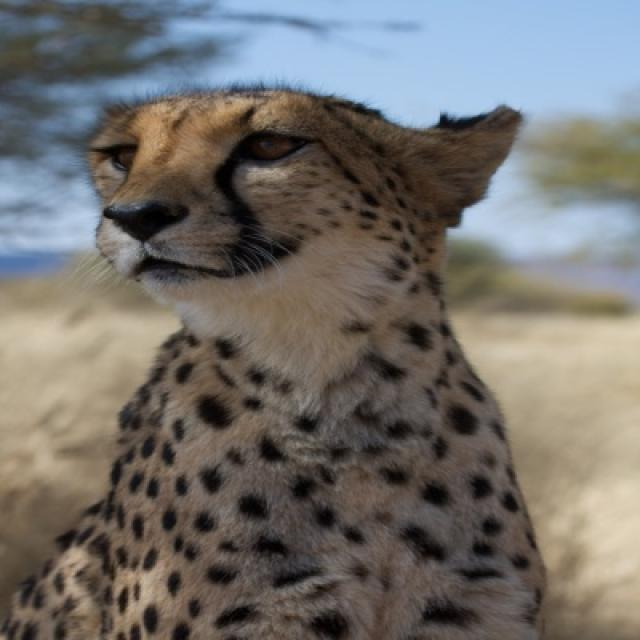Cheetah: (0, 88, 547, 638)
